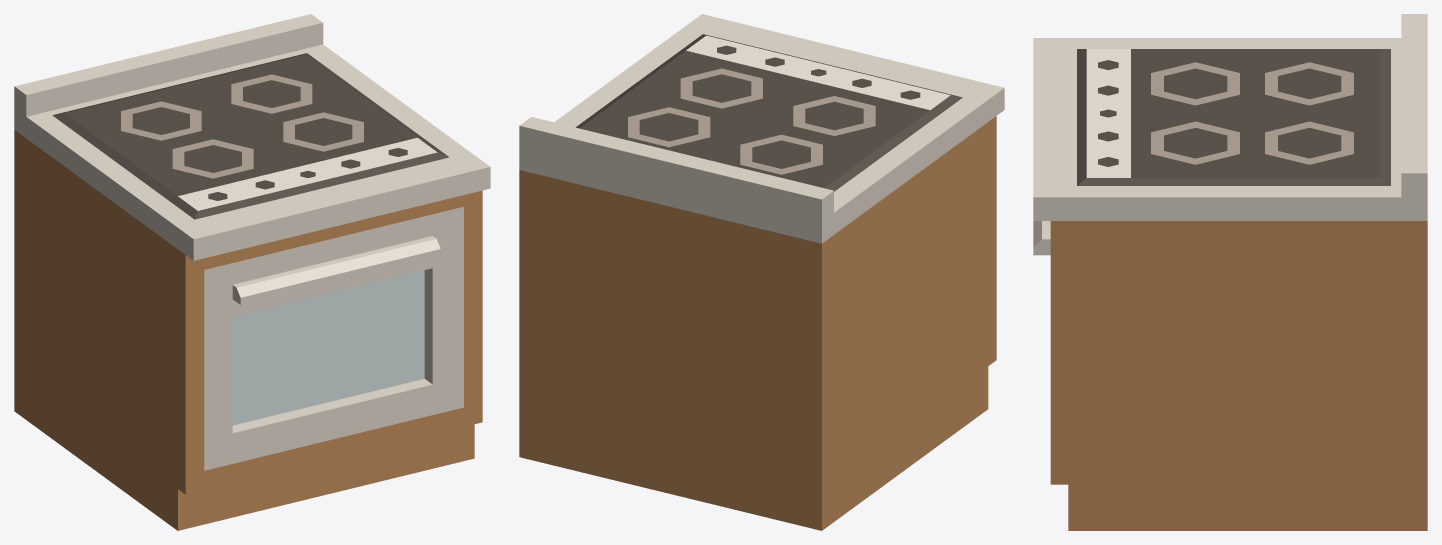
Rendered from kitKitchenStoveElectric.glb.
3 views of the same model, side by side, from view 1: azimuth 30°, elevation 25°; view 2: azimuth 150°, elevation 25°; view 3: azimuth 270°, elevation 25° (orthographic). The views are drawn at different scales.
Visible parts, largest first — view 1: kitKitchenStoveElectric_wood, kitKitchenStoveElectric_metal, kitKitchenStoveElectric_metalDark, kitKitchenStoveElectric_glass, kitKitchenStoveElectric_metalMedium, kitKitchenStoveElectric_fabricLight; view 2: kitKitchenStoveElectric_wood, kitKitchenStoveElectric_metal, kitKitchenStoveElectric_metalDark, kitKitchenStoveElectric_metalMedium, kitKitchenStoveElectric_fabricLight; view 3: kitKitchenStoveElectric_wood, kitKitchenStoveElectric_metalDark, kitKitchenStoveElectric_metal, kitKitchenStoveElectric_metalMedium, kitKitchenStoveElectric_fabricLight.
Part boxes in pixels (<box>): kitKitchenStoveElectric_wood: <box>14,130,482,530</box>; kitKitchenStoveElectric_metal: <box>14,14,490,470</box>; kitKitchenStoveElectric_metalDark: <box>52,53,449,219</box>; kitKitchenStoveElectric_glass: <box>232,270,424,425</box>; kitKitchenStoveElectric_metalMedium: <box>121,74,363,178</box>; kitKitchenStoveElectric_fabricLight: <box>178,137,437,210</box>; kitKitchenStoveElectric_wood: <box>519,116,996,530</box>; kitKitchenStoveElectric_metal: <box>519,14,1004,243</box>; kitKitchenStoveElectric_metalDark: <box>575,34,962,191</box>; kitKitchenStoveElectric_metalMedium: <box>628,68,875,174</box>; kitKitchenStoveElectric_fabricLight: <box>686,35,950,110</box>; kitKitchenStoveElectric_wood: <box>1050,221,1427,530</box>; kitKitchenStoveElectric_metalDark: <box>1077,49,1390,185</box>; kitKitchenStoveElectric_metal: <box>1033,14,1427,255</box>; kitKitchenStoveElectric_metalMedium: <box>1151,62,1353,164</box>; kitKitchenStoveElectric_fabricLight: <box>1086,49,1130,177</box>.
Bounding box in the file's own units: 0.86 × 0.9 × 0.9.
